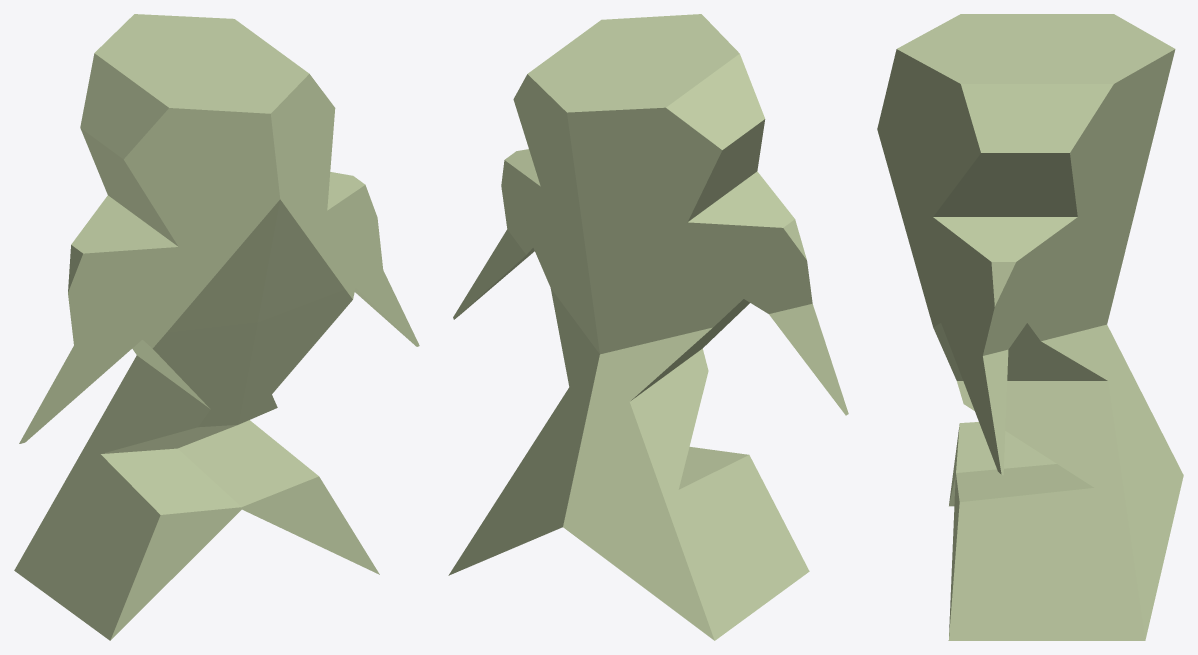
File: thing.dae
The picture shows the model from 3 angles, left to right: view 1: azimuth 30°, elevation 25°; view 2: azimuth 150°, elevation 25°; view 3: azimuth 270°, elevation 25°; orthographic projection. The views are drawn at different scales.
Parts seen in each view (by area): view 1: Cube; view 2: Cube; view 3: Cube.
Part boxes in pixels (<box>): Cube: <box>14,14,419,640</box>; Cube: <box>448,14,848,640</box>; Cube: <box>877,14,1183,640</box>.
Size of the model in its own units: 1.6 by 1.04 by 1.96.
